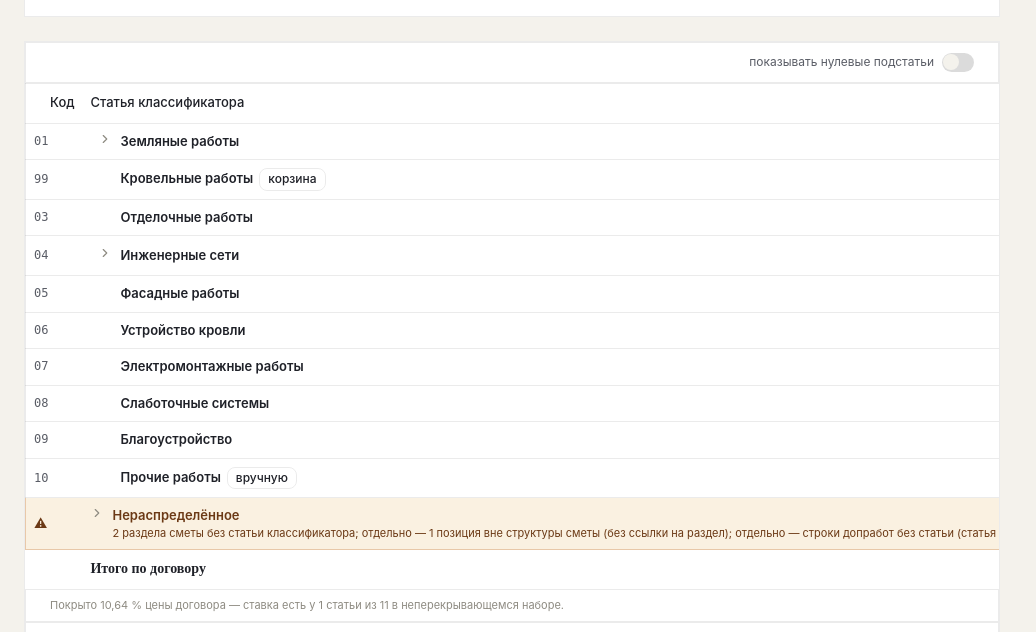
Паспорт проекта: таблица по статьям › подпись служебной строки называет раздел сметы
(page scrolled)
Click the button named "Развернуть статью 04". click: (106, 253)
box: [98,246,112,260]
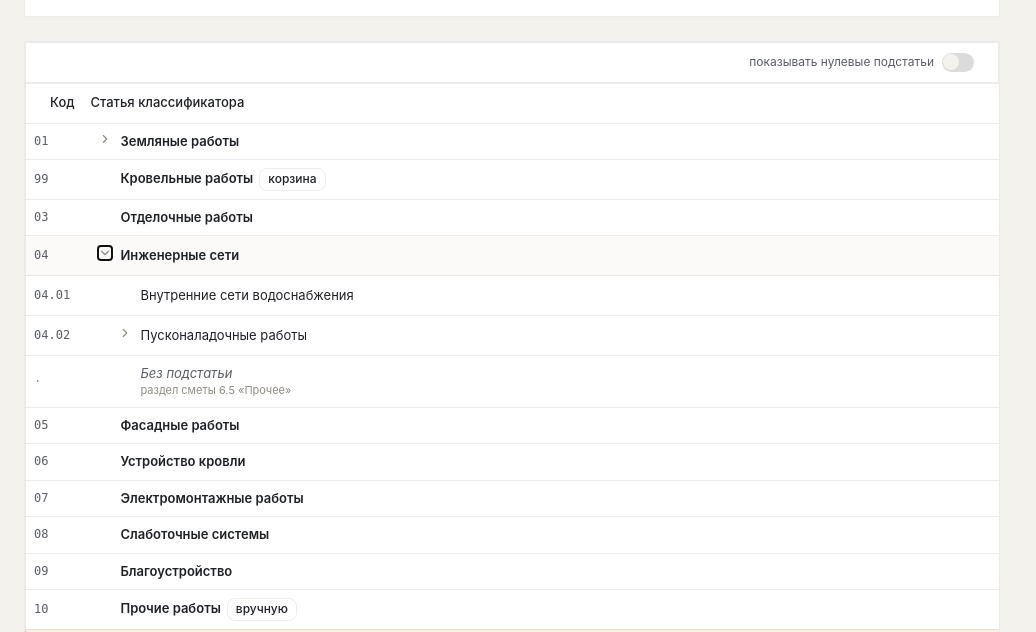
Result: the text "раздел сметы 6.5 «Прочее»" is shown at [140,383,292,399]
